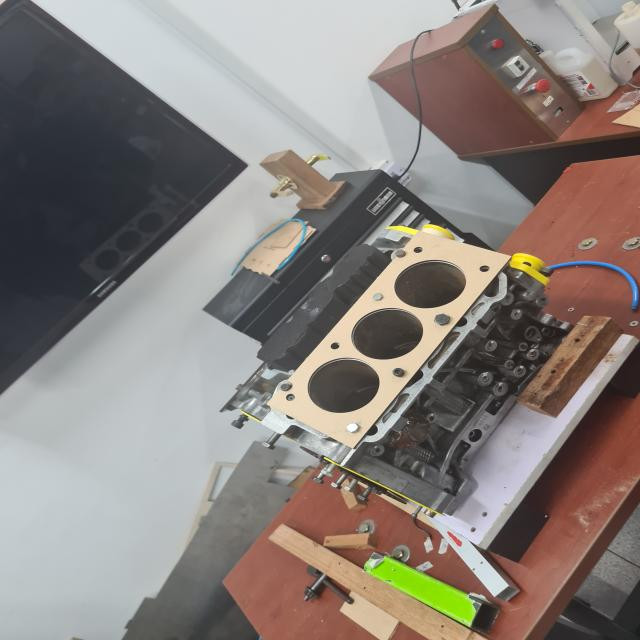vista1: (266, 232, 513, 449)
